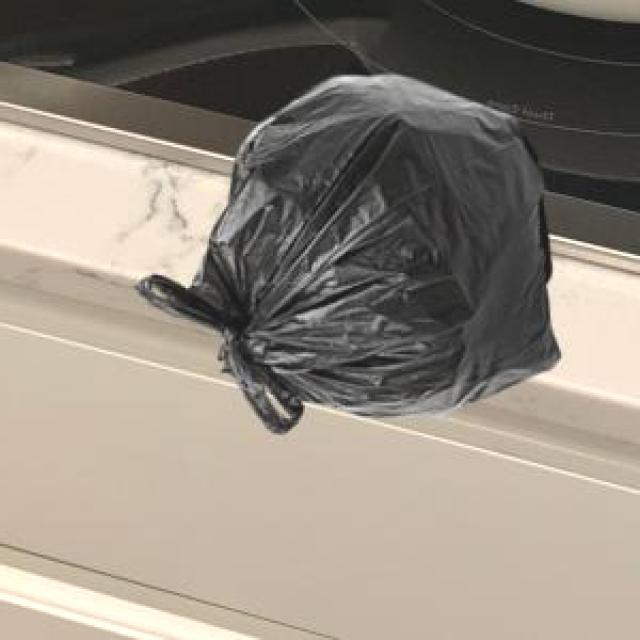Trashbag: (220, 57, 568, 430)
